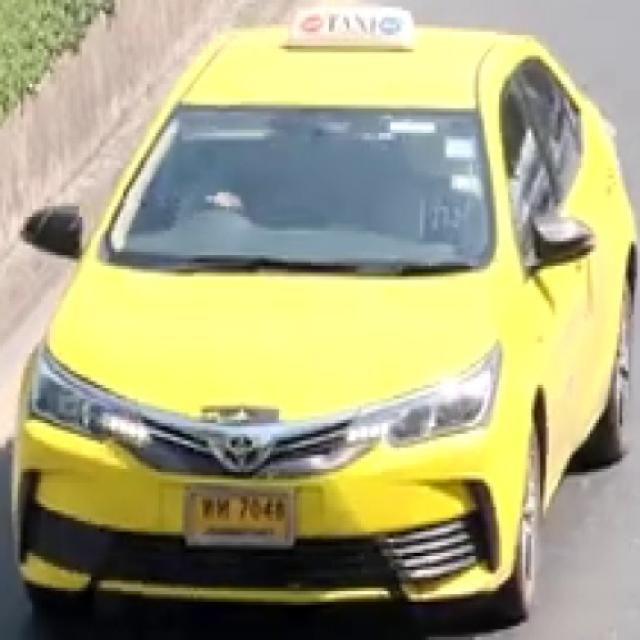plate: (188, 484, 292, 544)
